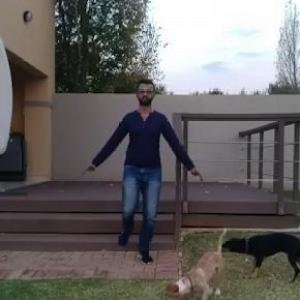land: (99, 88, 184, 246)
